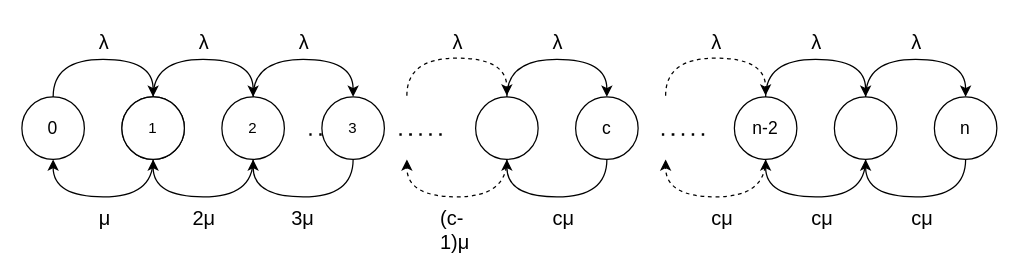
The diagram is 1019 pixels wide and 275 high, and some of its shapes have lost their labels. Here are the shapes that lost their labels. From the top down, the box of each, then its label:
(474, 96, 538, 159): c -1
(833, 96, 897, 159): n-1
